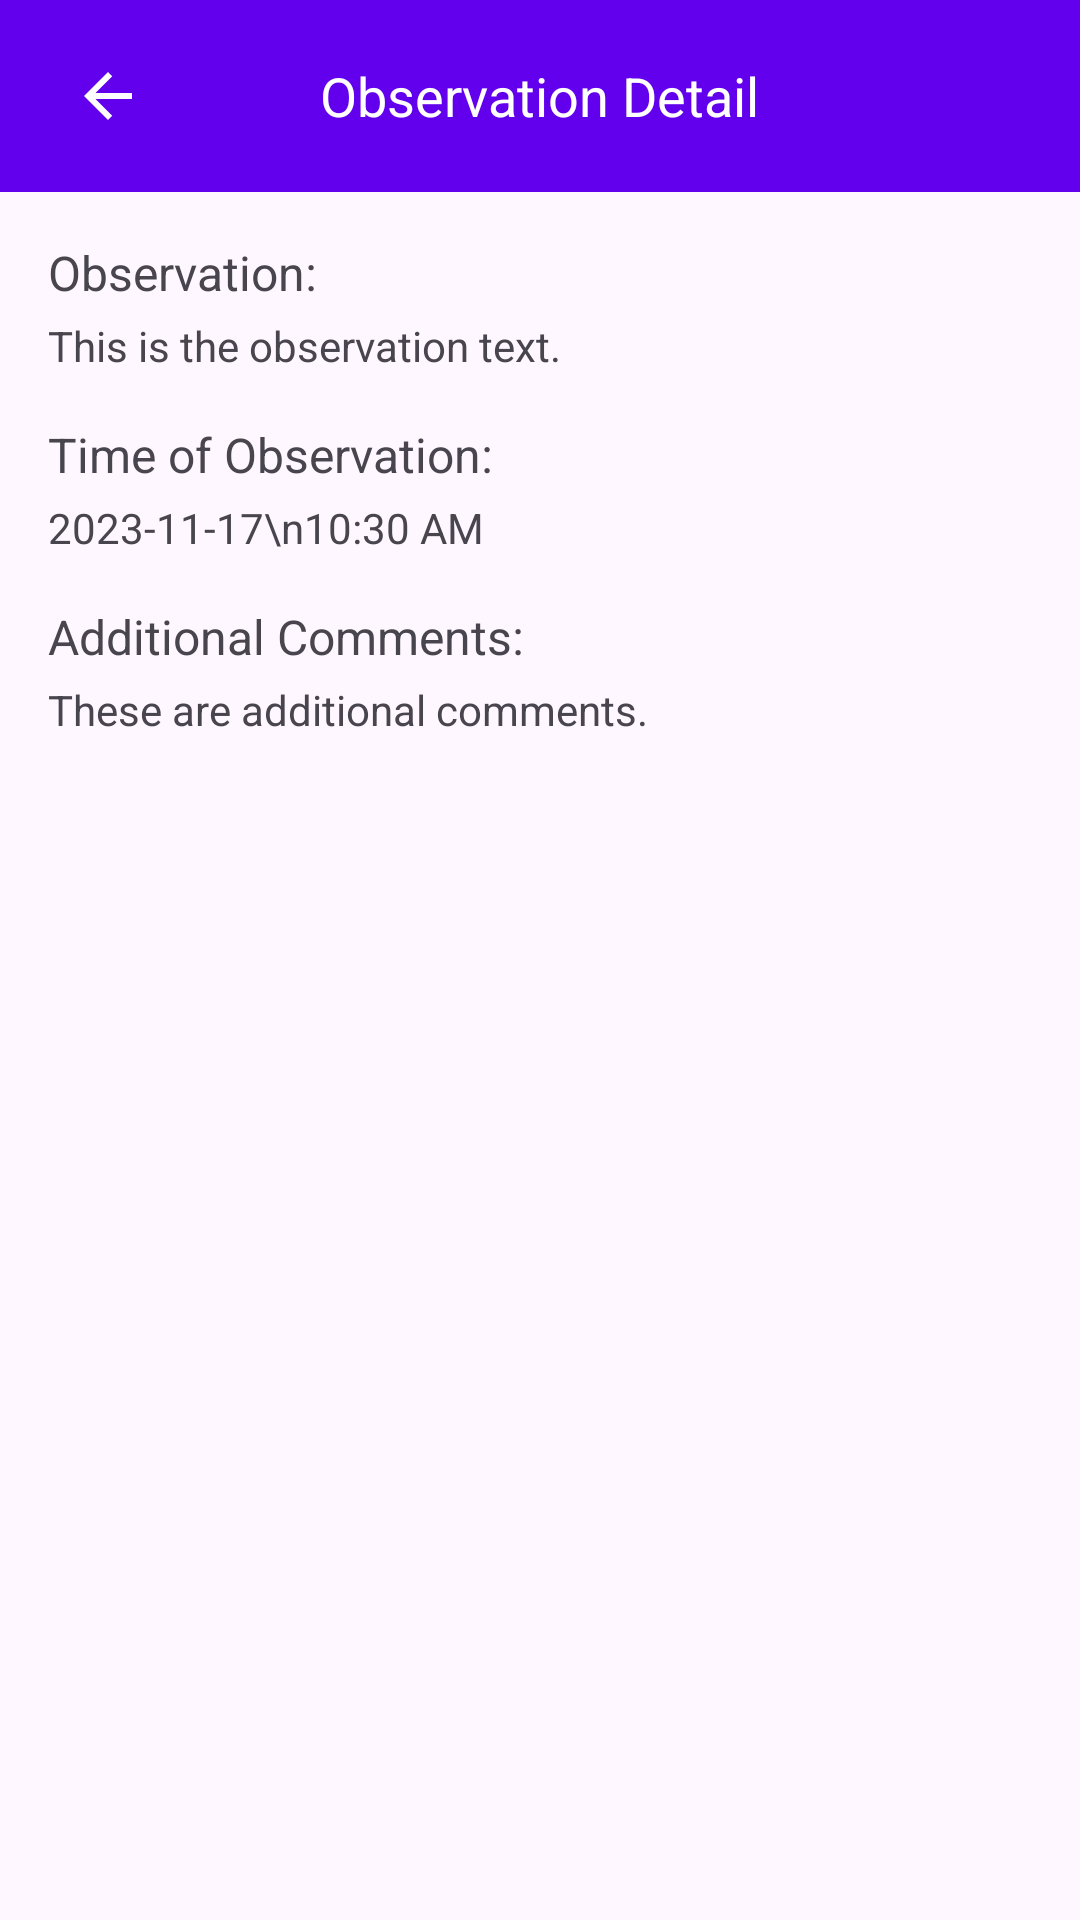

Icons on this 1080 x 1920 Android screen, each with the point to tap as (x,y):
Navigate Back: (108,96)
